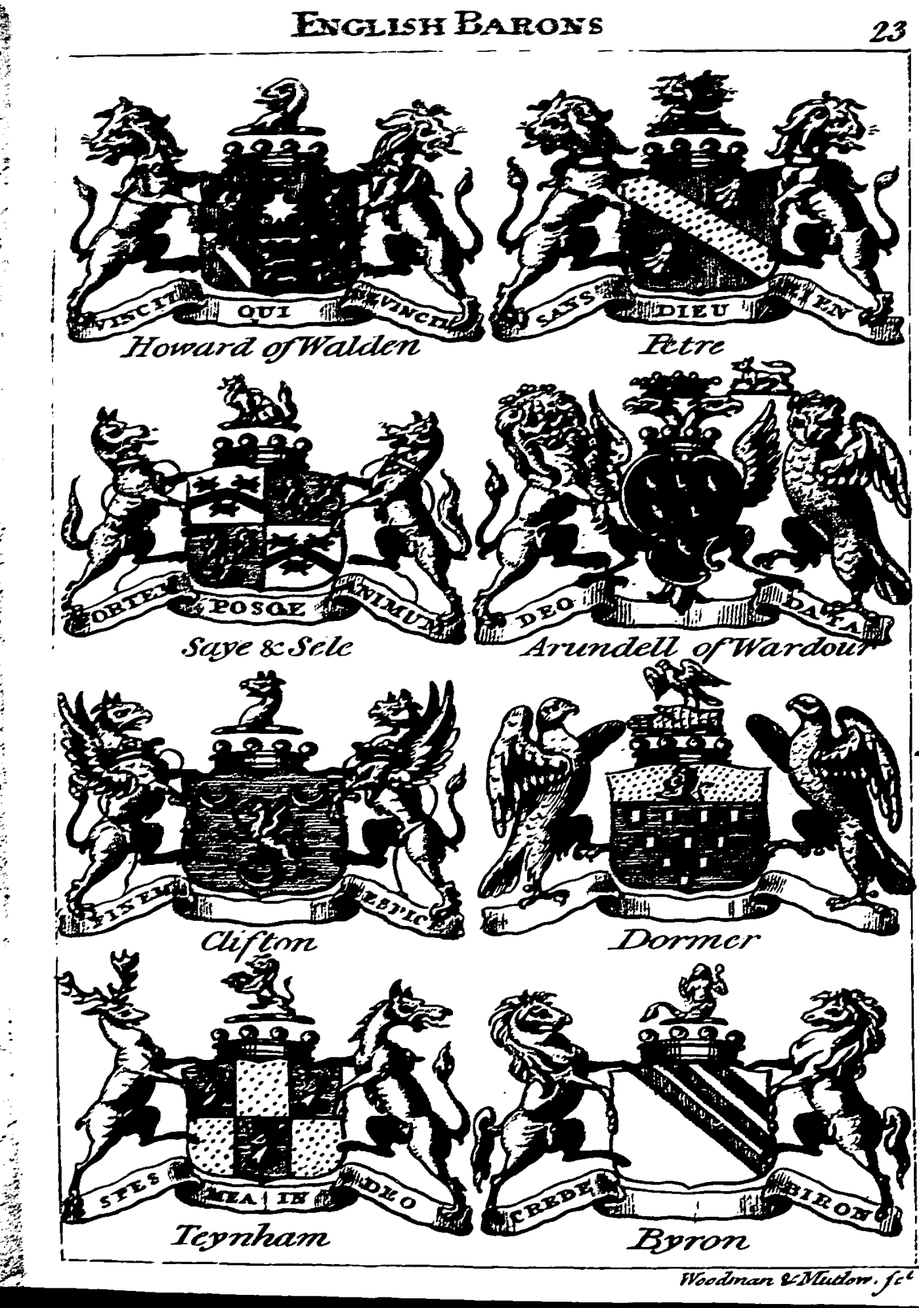coat_of_arms: (57, 62, 484, 371), (478, 655, 904, 956), (478, 954, 906, 1252), (488, 368, 906, 667), (485, 63, 901, 363), (53, 965, 478, 1255), (63, 668, 474, 963), (66, 376, 466, 667)
